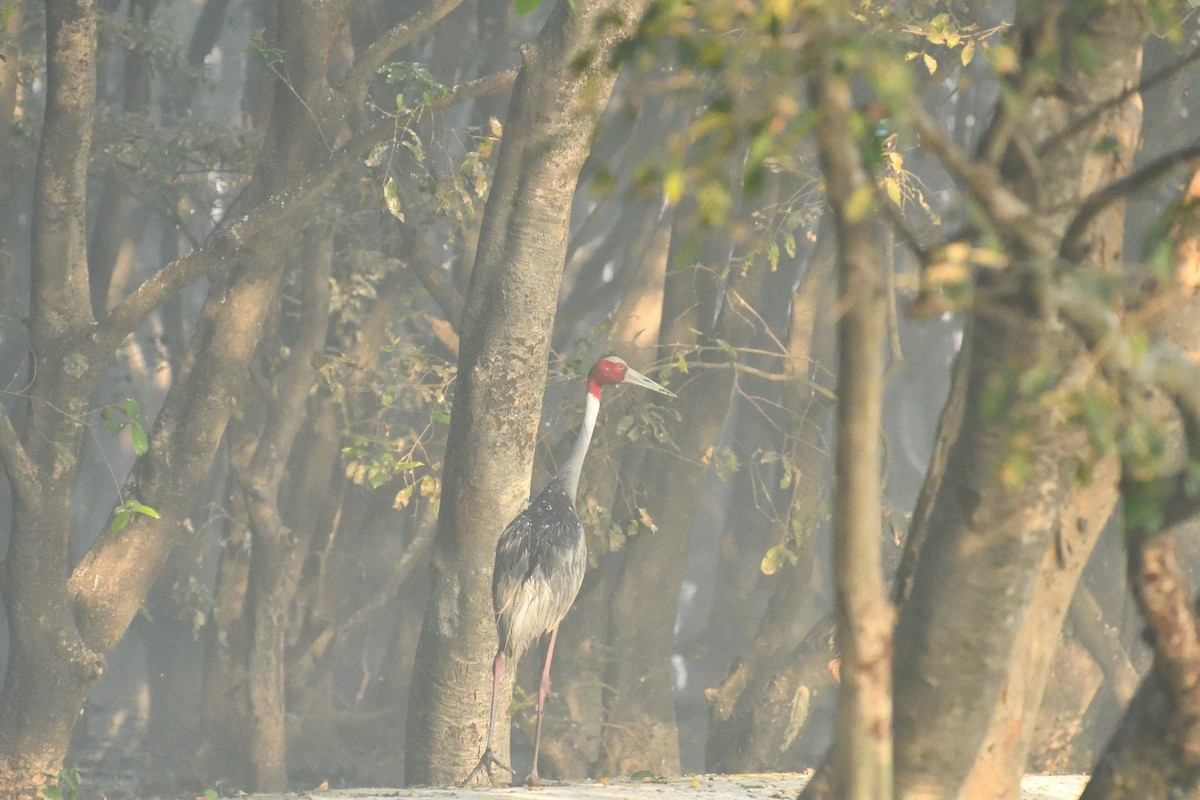crane: (449, 351, 680, 800)
